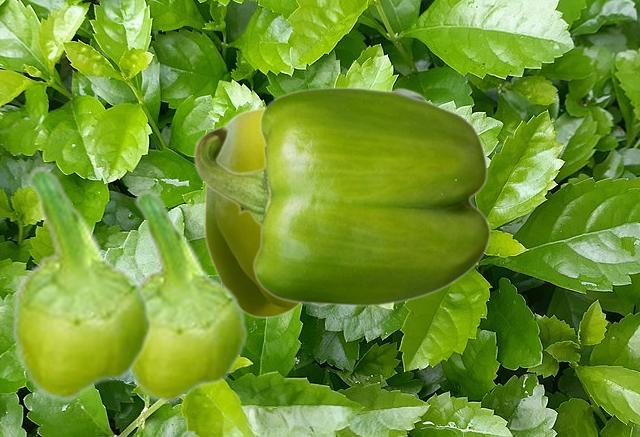bell_pepper: (193, 86, 490, 306), (11, 167, 152, 400), (203, 107, 325, 317), (128, 190, 247, 402)
